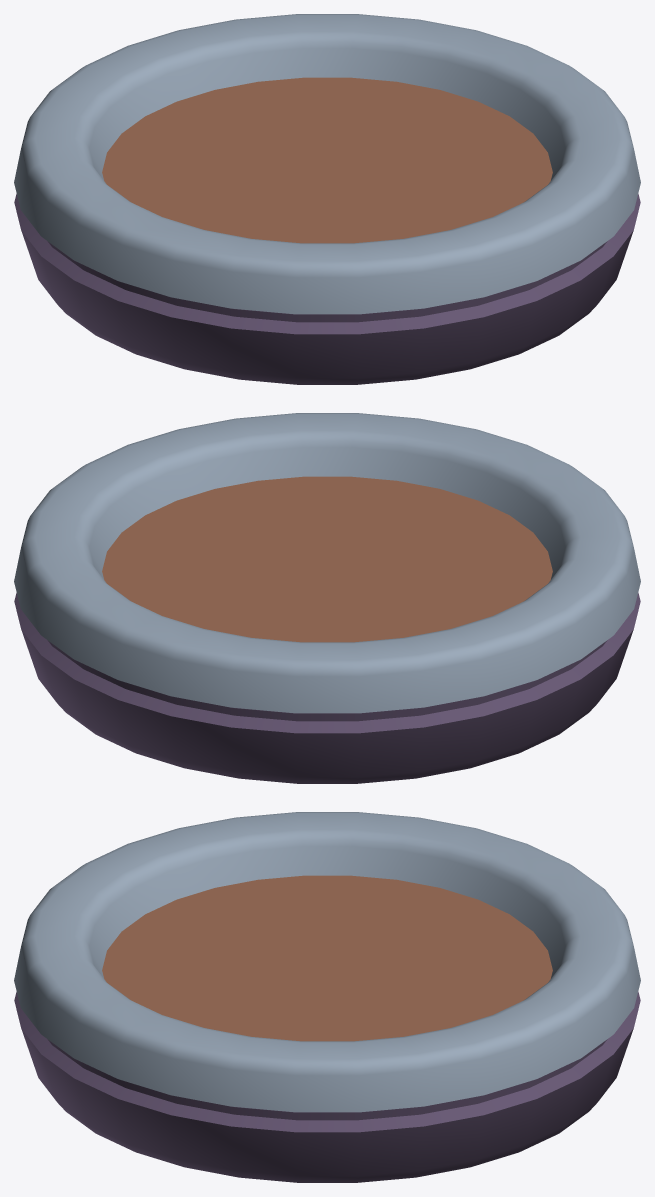
Rendered from FountainBottom.fbx.
3 renders of one model, top to bottom at view 1: azimuth 30°, elevation 25°; view 2: azimuth 150°, elevation 25°; view 3: azimuth 270°, elevation 25°, orthographic.
Parts seen in each view (by area): view 1: FountainBottom_LOD0; view 2: FountainBottom_LOD0; view 3: FountainBottom_LOD0.
Boxes of the visible parts, left/top/right/bottom form: FountainBottom_LOD0: left=14, top=14, right=640, bottom=384; FountainBottom_LOD0: left=14, top=413, right=640, bottom=783; FountainBottom_LOD0: left=14, top=812, right=640, bottom=1182.
Size of what is drawn, in the model's own units: 337 by 86.34 by 338.
